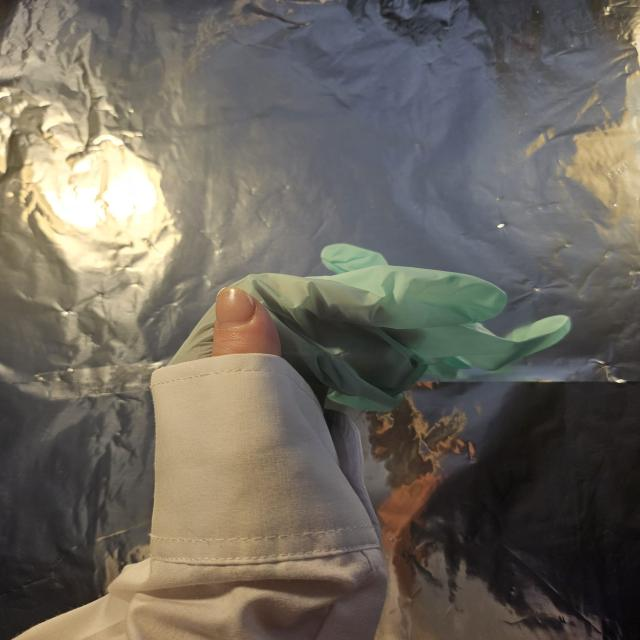glove_partial: (165, 240, 572, 413)
